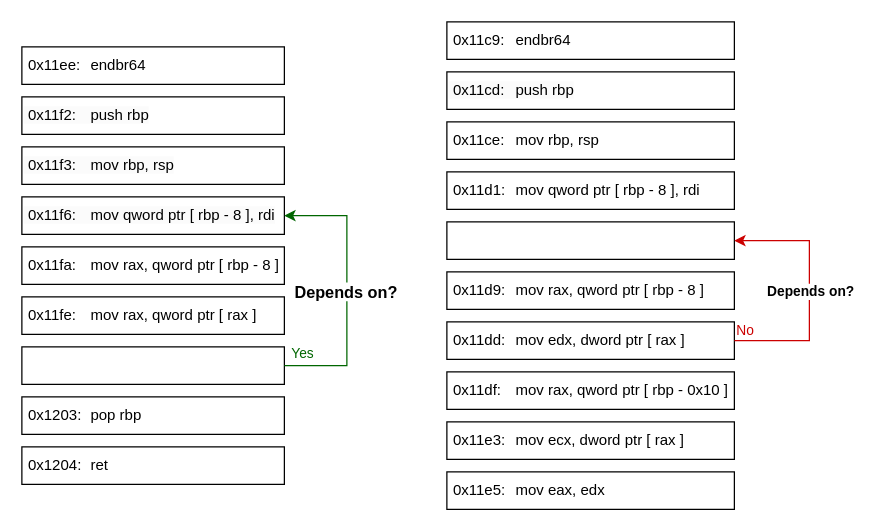
The diagram is 875 pixels wide and 531 high, and some of its shapes have lost their labels. The shapes that lost their labels are listed below. From the top down, each one's centre as x and y in pixels, then its label:
At point (590, 240): "0x11d5: mov qword ptr [ rbp - 0x10 ], rsi".
At point (152, 365): "0x1201: mov eax, dword ptr [ rax ]".
